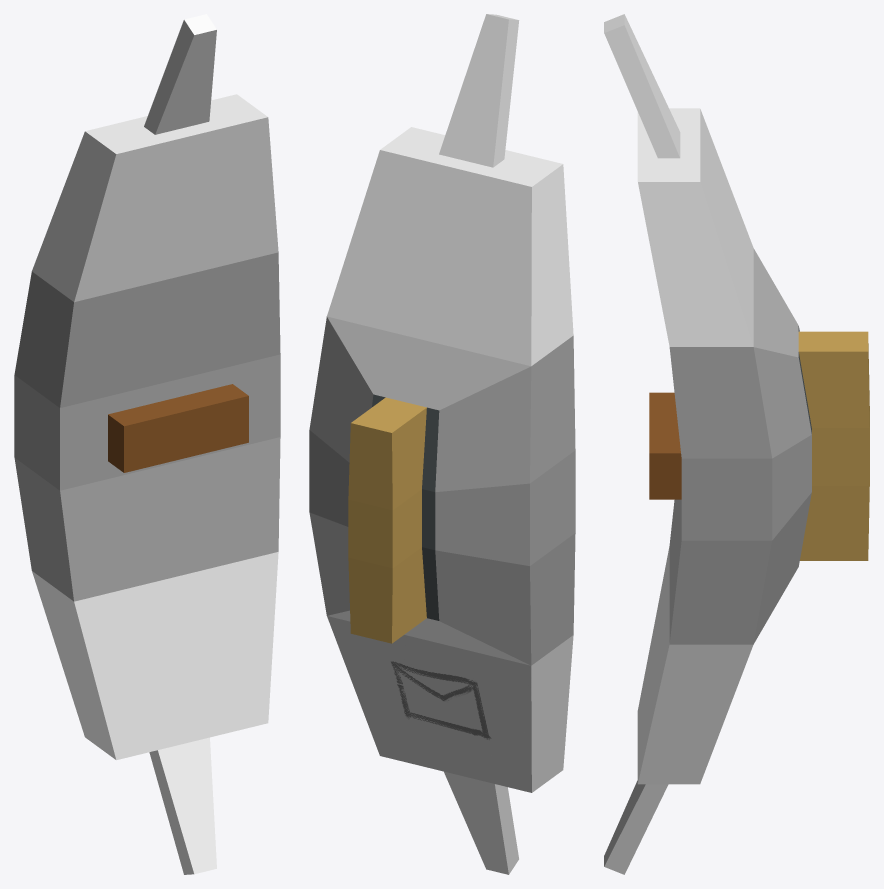
The model's file is station_pylon.fbx.
3 renders of one model, left to right at view 1: azimuth 30°, elevation 25°; view 2: azimuth 150°, elevation 25°; view 3: azimuth 270°, elevation 25°, orthographic.
Parts seen in each view (by area): view 1: Cube; view 2: Cube; view 3: Cube.
Boxes of the visible parts, x1,y1,x2,y2 form: Cube: (14, 14, 280, 874); Cube: (309, 14, 575, 874); Cube: (604, 14, 869, 874).
Bounding box in the file's own units: 450 × 1667 × 472.
